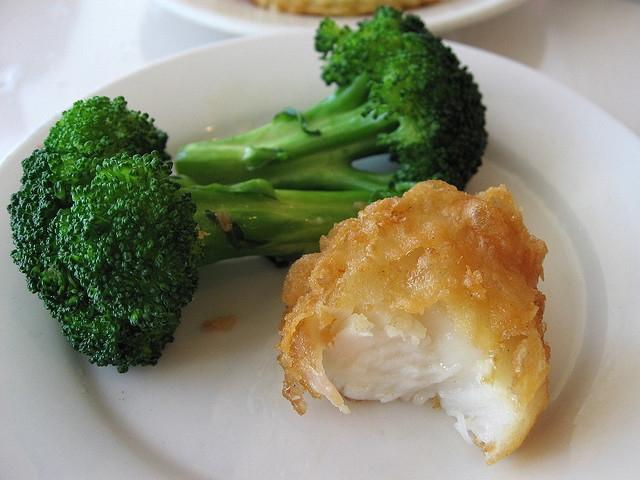broccoli: (6, 95, 402, 374), (176, 5, 490, 198)
